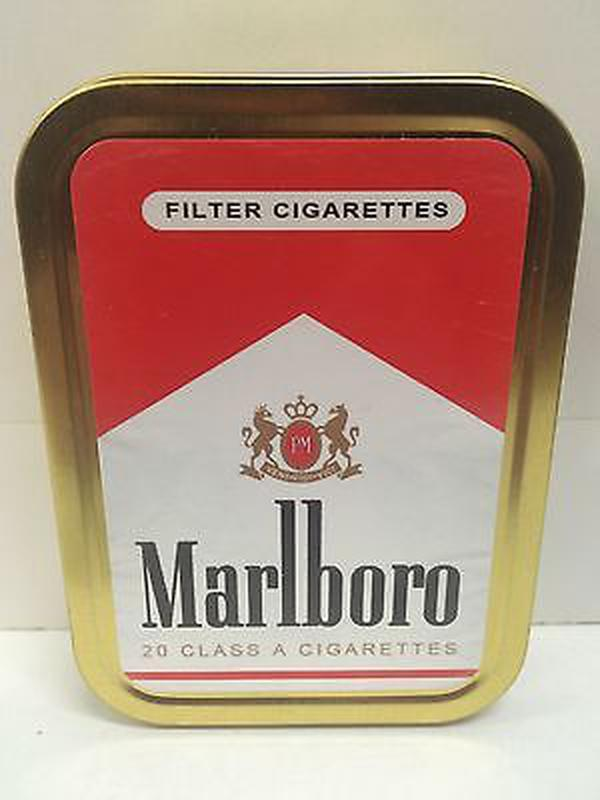marlboro_red: (122, 156, 480, 687)
